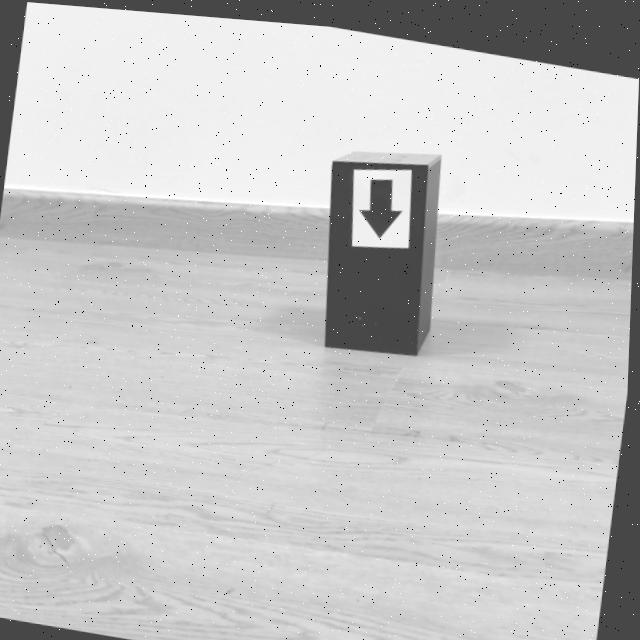DOWN: (361, 171, 403, 232)
